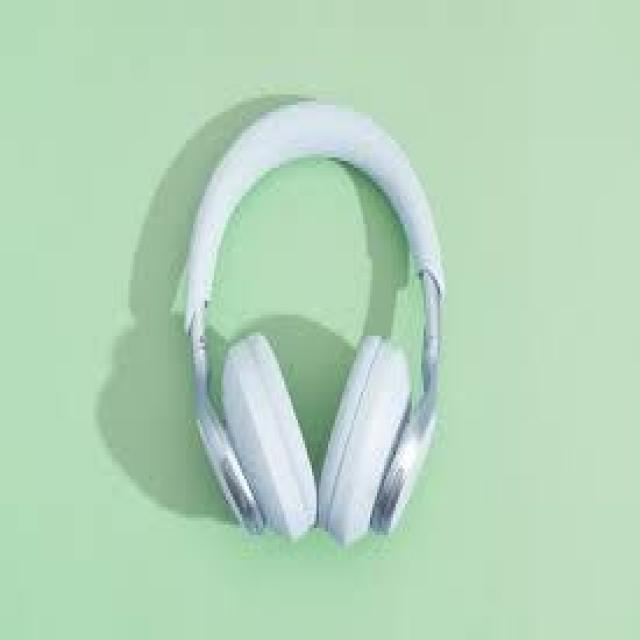headset: (178, 155, 446, 538)
